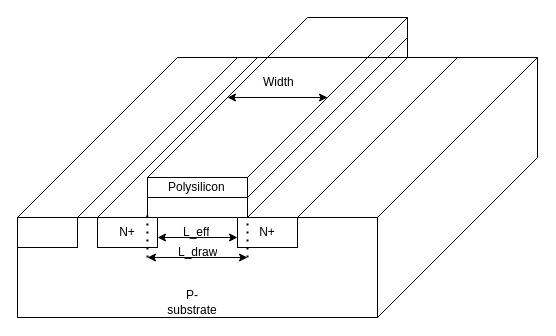
Image size: 556x336. Some labels were removed from this diagram. The box of each missing label's shape, as (x1, y1, x2, y2) in pixels:
P+: (16, 216, 78, 248)
silicon oxide: (146, 196, 248, 218)
